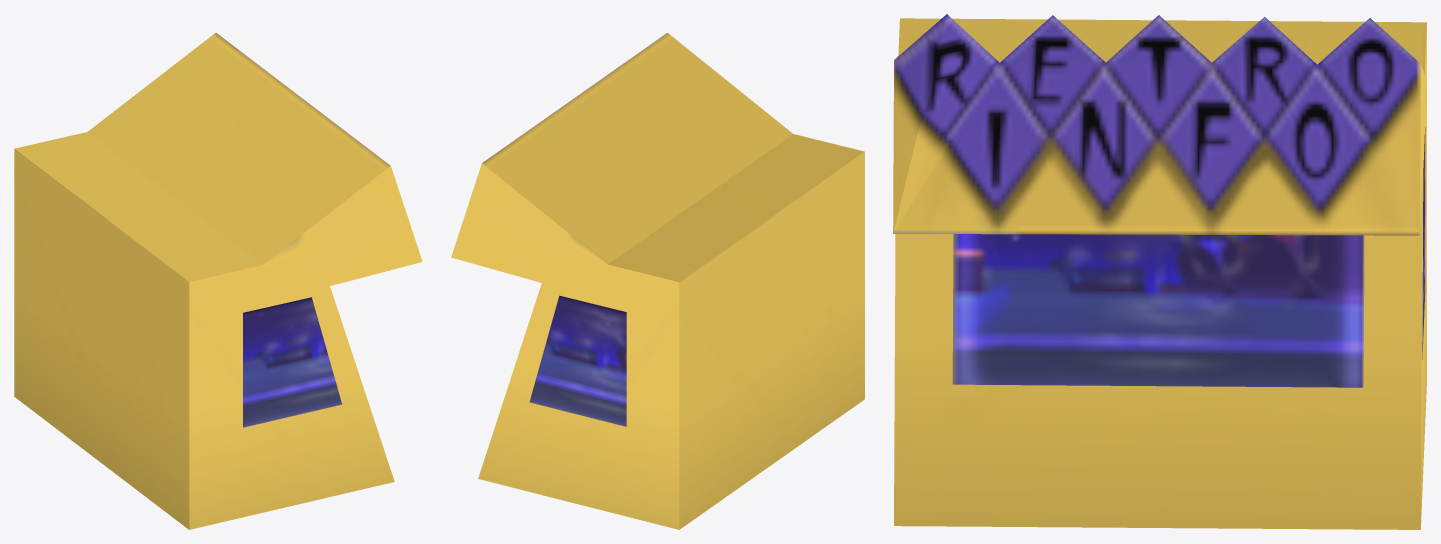
Rendered from infobooth.glb.
3 renders of one model, left to right at view 1: azimuth 30°, elevation 25°; view 2: azimuth 150°, elevation 25°; view 3: azimuth 270°, elevation 25°, orthographic. The views are drawn at different scales.
Parts seen in each view (by area): view 1: infobooth; view 2: infobooth; view 3: infobooth.
Part boxes in pixels (box(x1,y1,x2,y2)): infobooth: box(14, 33, 422, 529); infobooth: box(451, 33, 864, 529); infobooth: box(893, 14, 1426, 529).
Size of the model in its own units: 323 by 456 by 432.
Materials: 1 (1 with a texture image).
